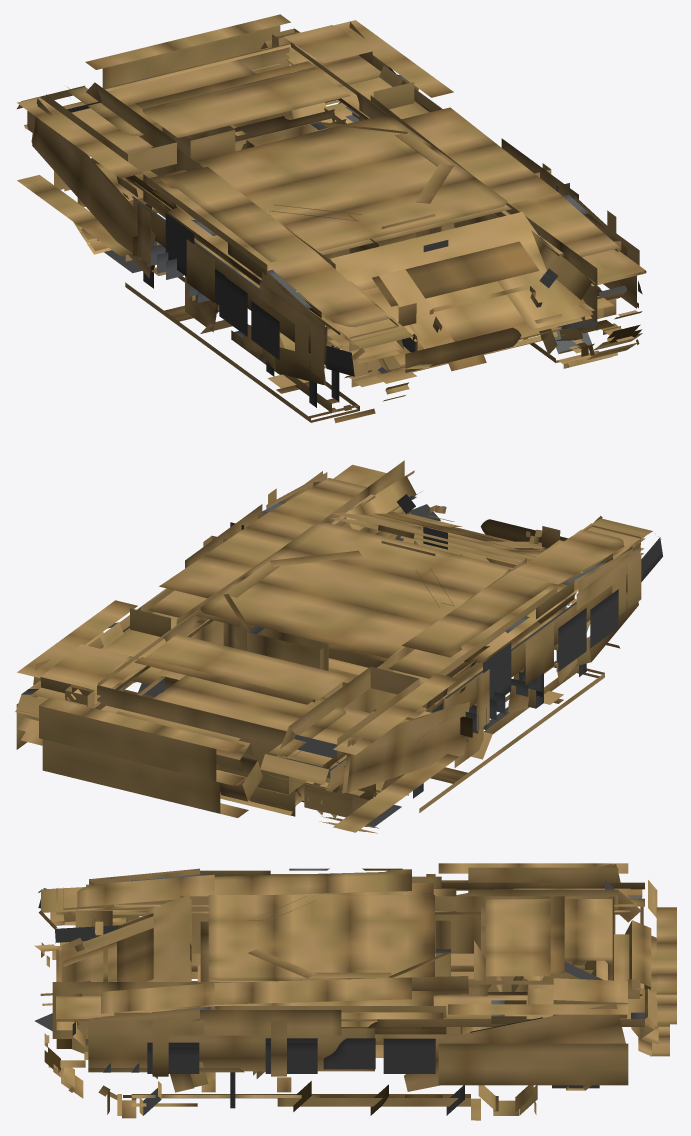
The picture shows the model from 3 angles, top to bottom: view 1: azimuth 30°, elevation 25°; view 2: azimuth 150°, elevation 25°; view 3: azimuth 270°, elevation 25°; orthographic projection. The views are drawn at different scales.
Parts seen in each view (by area): view 1: body, tracks, w9, w3, w5; view 2: body, tracks, w8, w5, w3; view 3: body, tracks, w15, w9, w12, w11.
Part boxes in pixels (left/top/right/bottom): body: left=17, top=14, right=646, bottom=384; tracks: left=73, top=103, right=642, bottom=423; w9: left=598, top=285, right=642, bottom=343; w3: left=260, top=332, right=309, bottom=393; w5: left=185, top=276, right=232, bottom=333; body: left=15, top=460, right=662, bottom=832; tracks: left=95, top=534, right=644, bottom=833; w8: left=304, top=777, right=375, bottom=818; w5: left=432, top=703, right=492, bottom=767; w3: left=513, top=643, right=563, bottom=708; body: left=34, top=863, right=676, bottom=1092; tracks: left=41, top=912, right=536, bottom=1120; w15: left=478, top=1085, right=537, bottom=1115; w9: left=44, top=1022, right=88, bottom=1072; w12: left=253, top=1071, right=311, bottom=1111; w11: left=201, top=1072, right=235, bottom=1108.
Bounding box in the file's own units: 4.76 × 1.82 × 8.79.
